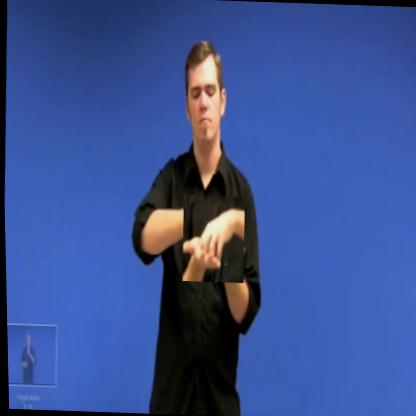Expensive: (180, 195, 245, 283)
